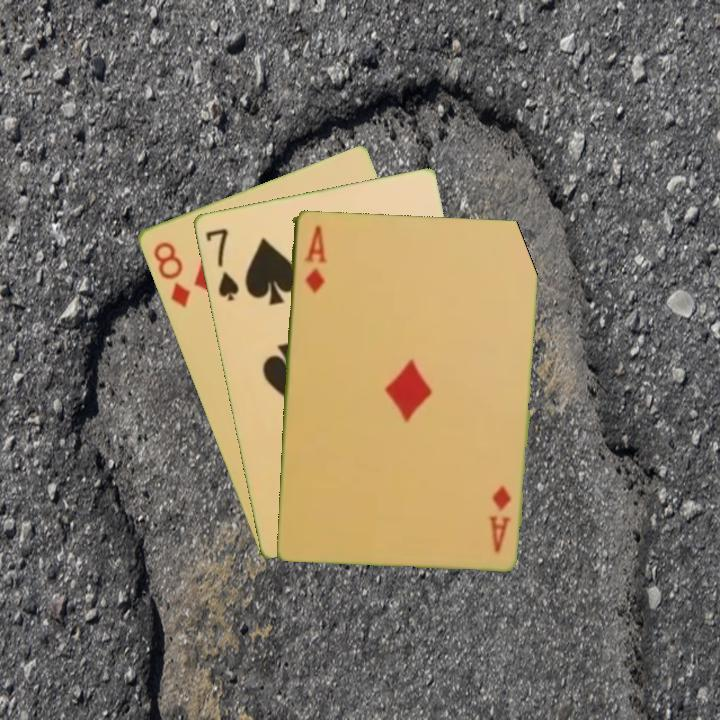7s: (201, 224, 241, 304)
8d: (149, 238, 193, 310)
Ad: (300, 222, 328, 296), (487, 482, 514, 556)
